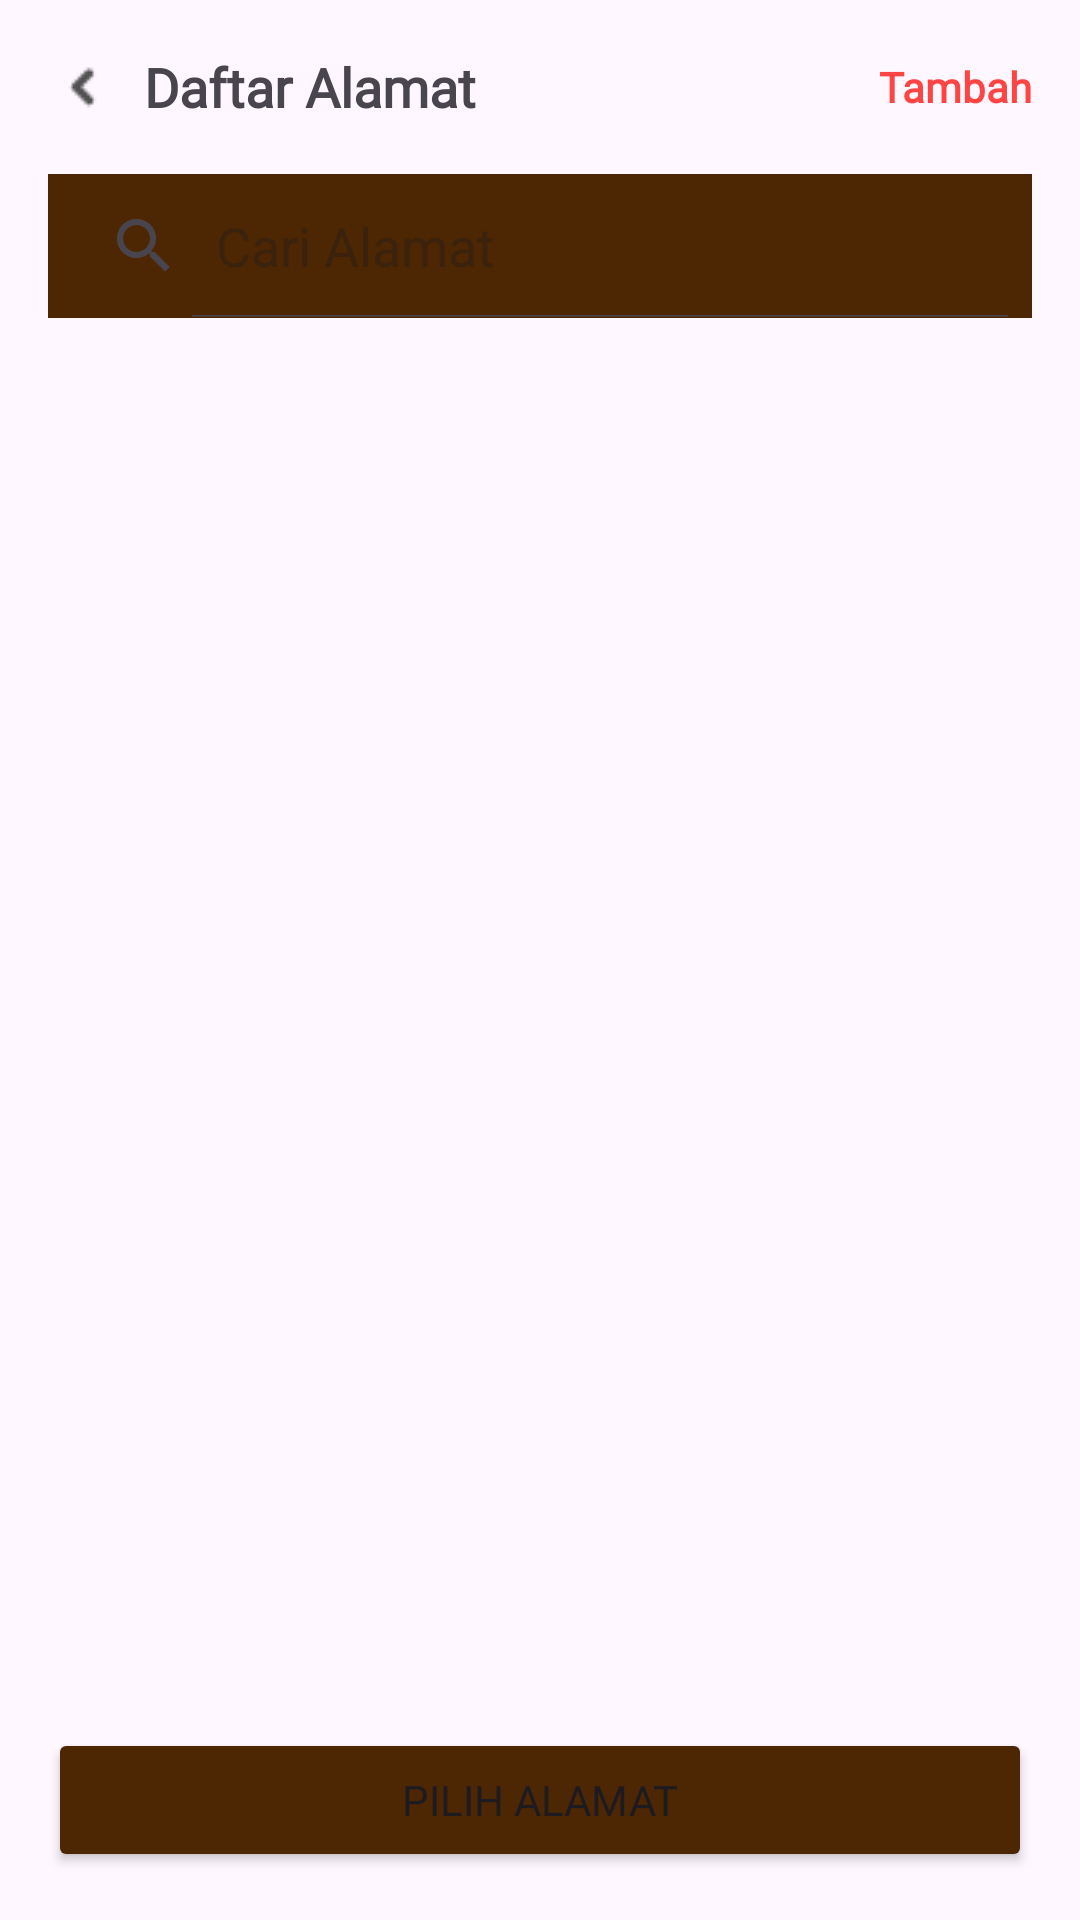

Locate icon controls on the screen. Image size 1080px x 1920px, boxes as (x1, y1, x2, y2).
Back: (71, 67, 94, 107)
